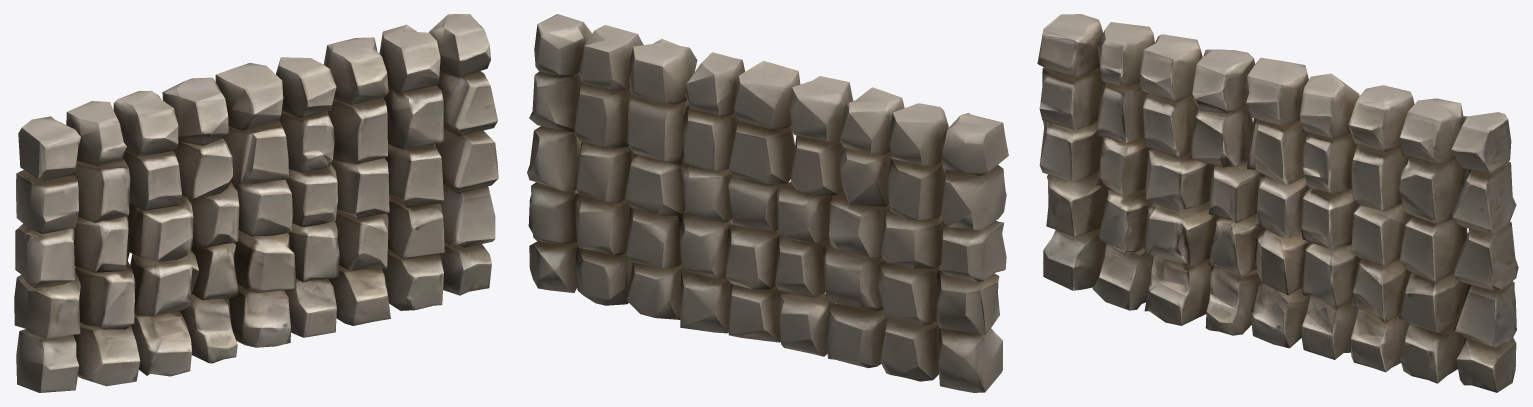
The model's file is m2WallSpikePanel.glb.
The picture shows the model from 3 angles, left to right: view 1: azimuth 30°, elevation 25°; view 2: azimuth 150°, elevation 25°; view 3: azimuth 330°, elevation 25°; orthographic projection.
Parts seen in each view (by area): view 1: model; view 2: model; view 3: model.
Part boxes in pixels (x1=…): model: x1=14, y1=14, x2=498, y2=392; model: x1=527, y1=14, x2=1008, y2=392; model: x1=1037, y1=14, x2=1518, y2=392.
Size of the model in its own units: 1.9 by 1.04 by 0.2751.
1 material, 1 textured.
